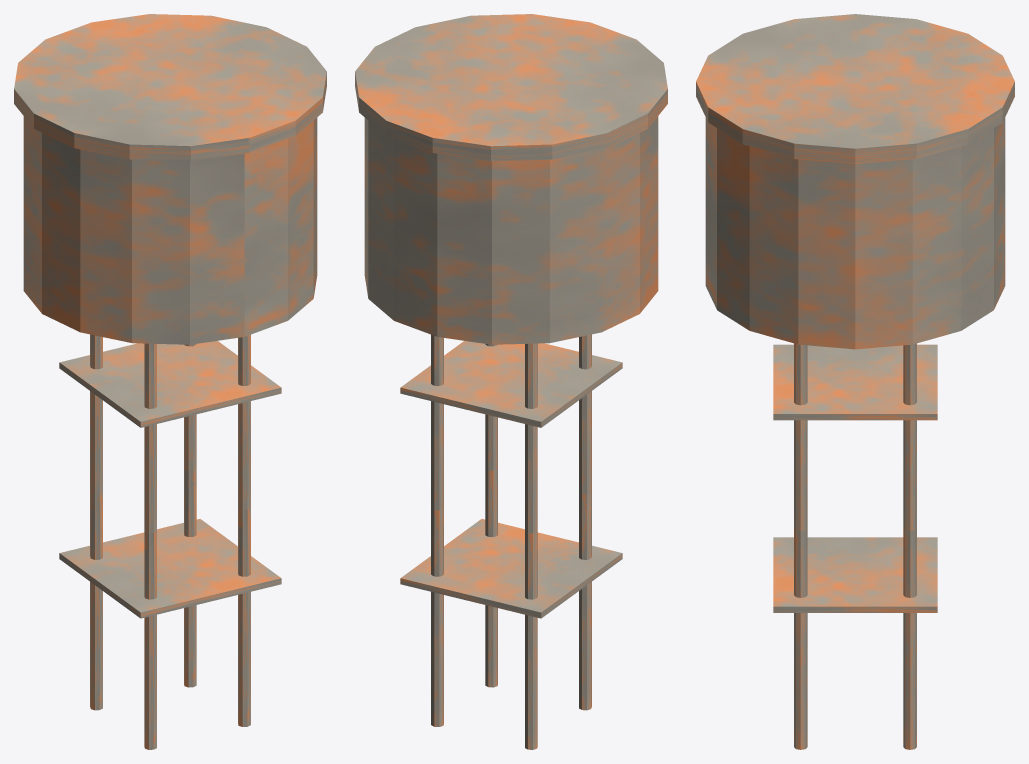
Rendered from tower.fbx.
The picture shows the model from 3 angles, left to right: view 1: azimuth 30°, elevation 25°; view 2: azimuth 150°, elevation 25°; view 3: azimuth 270°, elevation 25°; orthographic projection.
Parts seen in each view (by area): view 1: tank, cap, ring0, ring1, leg0_0, leg1_0, leg3_0, leg0_1, leg1_1, leg3_1, leg2_0, leg2_1; view 2: tank, cap, ring0, ring1, leg2_0, leg3_0, leg0_0, leg3_1, leg2_1, leg1_0, leg0_1, leg1_1; view 3: tank, cap, ring0, ring1, leg1_0, leg2_0, leg2_1, leg1_1.
Boxes of the visible parts, bbox=[...] form: tank: bbox=[23, 116, 317, 344]; cap: bbox=[14, 14, 326, 161]; ring0: bbox=[59, 519, 281, 618]; ring1: bbox=[59, 341, 281, 427]; leg0_0: bbox=[144, 531, 156, 749]; leg1_0: bbox=[238, 508, 250, 726]; leg3_0: bbox=[90, 490, 102, 710]; leg0_1: bbox=[144, 343, 156, 549]; leg1_1: bbox=[238, 334, 250, 527]; leg3_1: bbox=[90, 334, 102, 510]; leg2_0: bbox=[184, 469, 196, 687]; leg2_1: bbox=[184, 344, 196, 487]; tank: bbox=[364, 116, 658, 344]; cap: bbox=[355, 14, 667, 161]; ring0: bbox=[400, 519, 622, 618]; ring1: bbox=[400, 341, 622, 427]; leg2_0: bbox=[431, 508, 443, 726]; leg3_0: bbox=[525, 531, 537, 749]; leg0_0: bbox=[579, 490, 591, 710]; leg3_1: bbox=[525, 343, 537, 549]; leg2_1: bbox=[431, 334, 443, 526]; leg1_0: bbox=[485, 469, 497, 687]; leg0_1: bbox=[579, 334, 591, 510]; leg1_1: bbox=[485, 344, 497, 487]; tank: bbox=[705, 118, 1005, 349]; cap: bbox=[696, 14, 1014, 163]; ring0: bbox=[773, 537, 937, 612]; ring1: bbox=[773, 344, 937, 420]; leg1_0: bbox=[794, 528, 807, 749]; leg2_0: bbox=[903, 528, 916, 749]; leg2_1: bbox=[903, 343, 916, 530]; leg1_1: bbox=[794, 343, 807, 530].
Bounding box in the file's own units: 660 × 1468 × 660.
